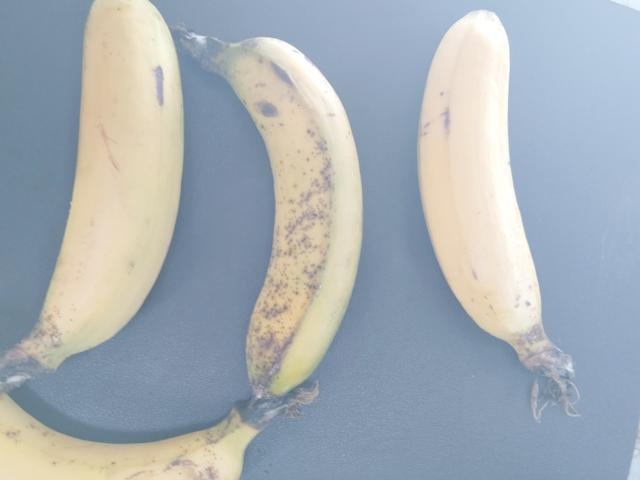freshripe: (398, 0, 556, 373), (27, 0, 165, 377)
ripe: (202, 37, 413, 421)
